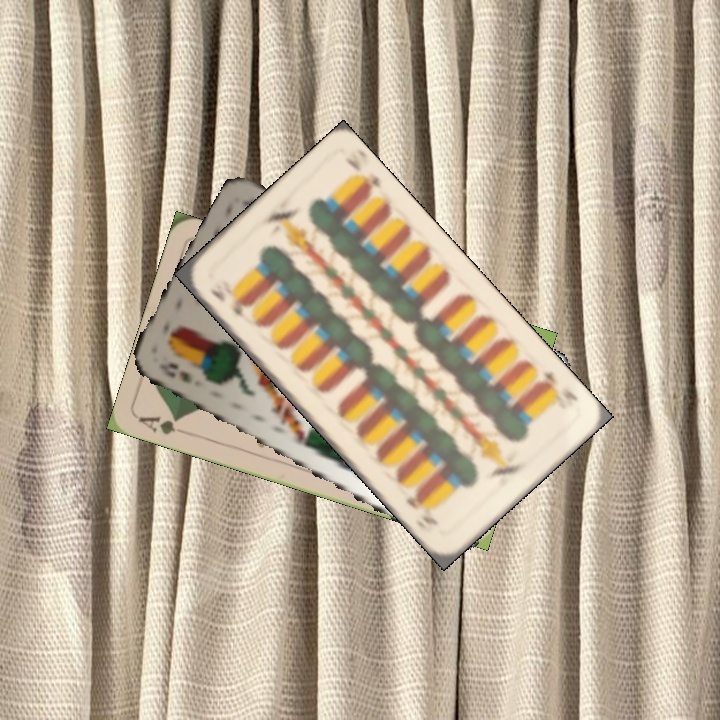E10: (534, 367, 581, 404), (206, 285, 250, 320)
EK: (154, 358, 194, 386)
GA: (135, 412, 183, 437)
